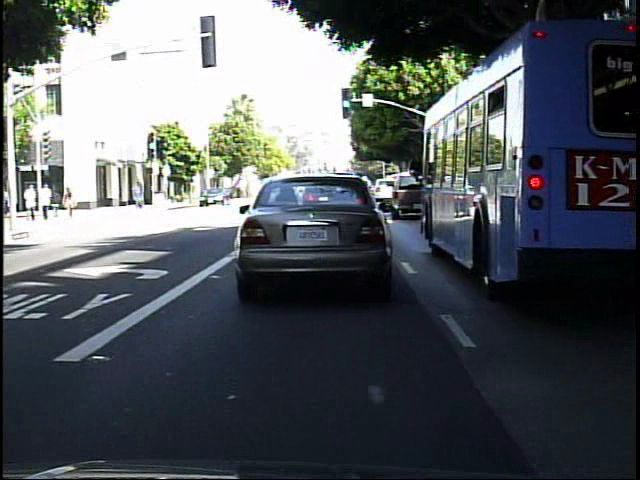person: (129, 178, 147, 213), (61, 182, 76, 220), (40, 182, 54, 222), (24, 181, 37, 222), (51, 184, 65, 221), (67, 183, 68, 221)
